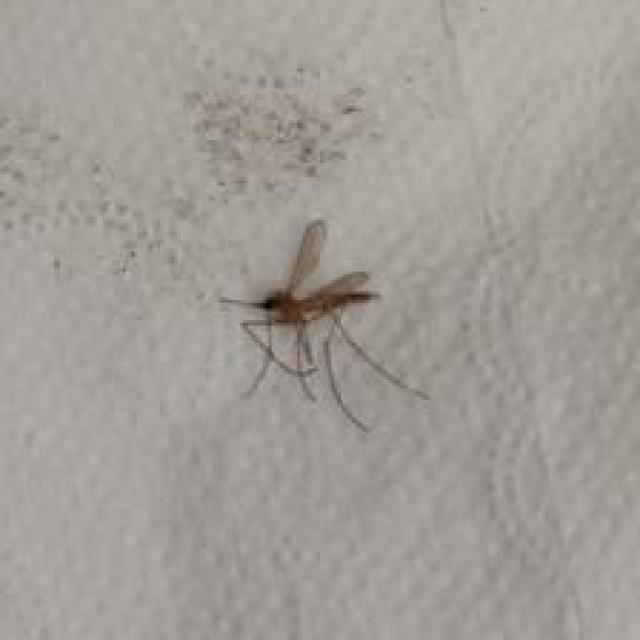Culex: (217, 217, 432, 434)
